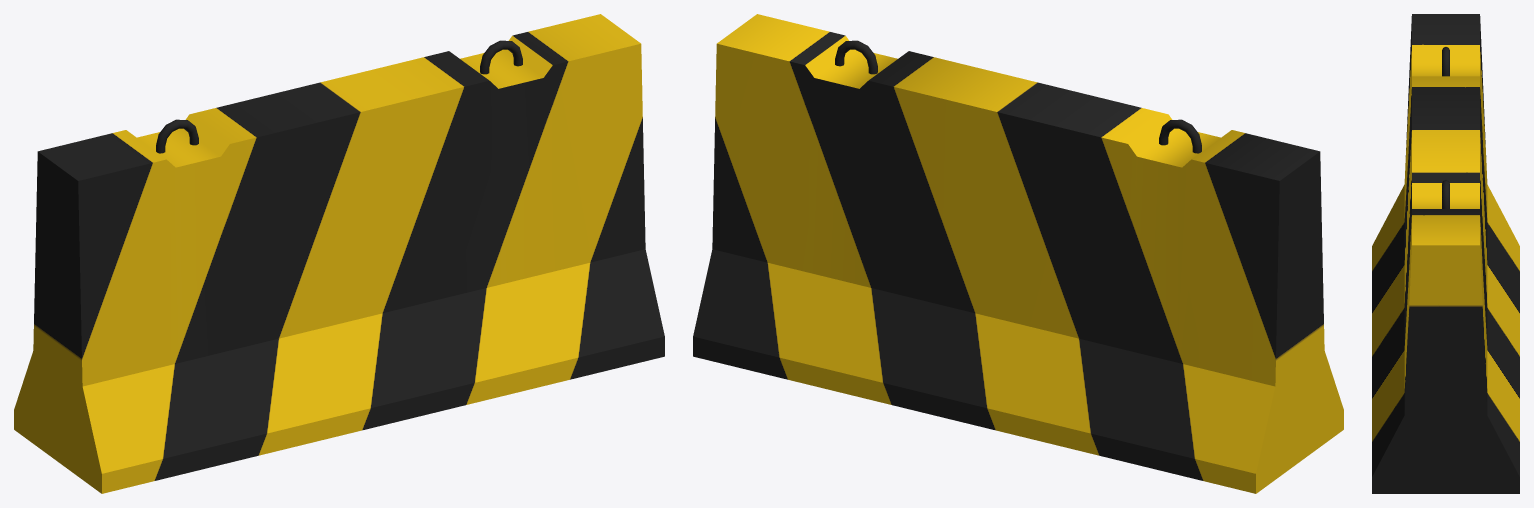
The model's file is obstacle-block-A.fbx.
3 views of the same model, side by side, from view 1: azimuth 30°, elevation 25°; view 2: azimuth 150°, elevation 25°; view 3: azimuth 270°, elevation 25° (orthographic). The views are drawn at different scales.
Parts seen in each view (by area): view 1: obstacle-block-A; view 2: obstacle-block-A; view 3: obstacle-block-A.
Boxes of the visible parts, bbox=[...] form: obstacle-block-A: bbox=[14, 14, 664, 493]; obstacle-block-A: bbox=[693, 14, 1343, 493]; obstacle-block-A: bbox=[1372, 14, 1519, 493].
Size of the model in its own units: 2.34 by 1.24 by 0.6322.
